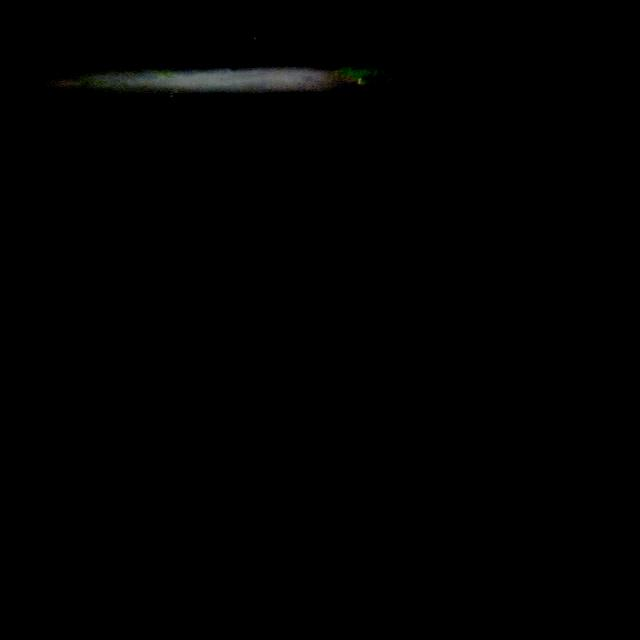Dog: (226, 44, 342, 210)
